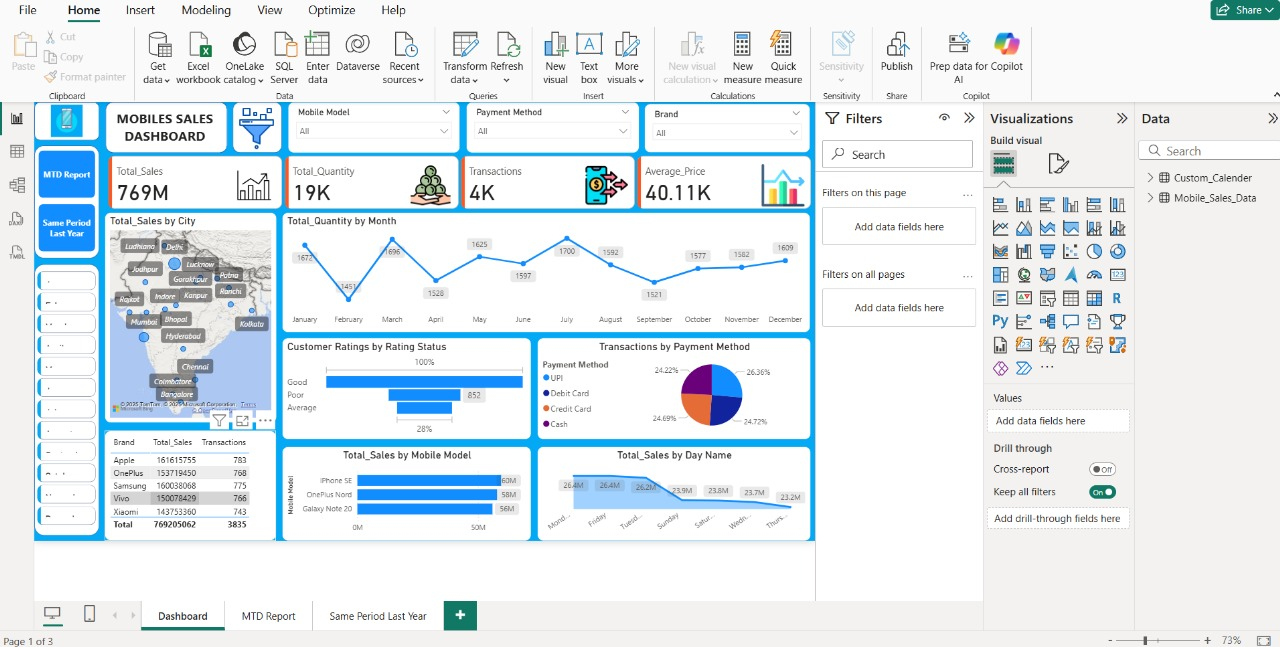

The dashboard page shown, as its layout file describes it:
{"tool":"powerbi","page":{"name":"Dashboard","canvas":[1280,720],"ordinal":0},"visuals":[{"type":"shape","box":[0,0,106.7,63.3],"z":0},{"type":"image","box":[0,0,106.7,62.2],"z":1000},{"type":"shape","box":[0,71.1,106.7,185.6],"z":2000},{"type":"shape","box":[0,265.6,106.7,445.6],"z":3000},{"type":"advancedSlicerVisual","fields":{"Values":["Custom_Calender.Date.Variation.Date Hierarchy.Month"]},"box":[0,273.3,106.7,437.8],"z":4000},{"type":"cardVisual","fields":{"Data":["Mobile_Sales_Data.Total_Sales","Mobile_Sales_Data.Total_Quantity","Mobile_Sales_Data.Transactions","Mobile_Sales_Data.Average_Price"]},"box":[116.6,83.7,1163.6,97.4],"z":5000},{"type":"slicer","fields":{"Values":["Mobile_Sales_Data.Mobile Model"]},"box":[415.8,0,282.7,83.7],"z":6000},{"type":"slicer","fields":{"Values":["Mobile_Sales_Data.Payment Method"]},"box":[708.1,0,284,83.7],"z":7000},{"type":"slicer","fields":{"Values":["Mobile_Sales_Data.Brand"]},"box":[1000.3,2.7,271.7,81],"z":8000},{"type":"shape","box":[325.2,0,81,83.7],"z":9000},{"type":"image","box":[322.5,4.1,83.7,79.6],"z":10000},{"type":"shape","box":[116.2,0,200,83.8],"z":11000},{"type":"textbox","box":[125,6.2,178.8,68.8],"z":12000},{"type":"map","fields":{"Category":["Mobile_Sales_Data.City"],"Size":["Mobile_Sales_Data.Total_Sales"]},"box":[115.3,181.1,282.7,345.8],"z":13000},{"type":"lineChart","fields":{"Category":["Custom_Calender.Date.Variation.Date Hierarchy.Month"],"Y":["Mobile_Sales_Data.Total_Quantity"]},"box":[406.6,181,866.2,197.9],"z":14000},{"type":"funnel","title":" Customer Ratings by Rating Status","fields":{"Y":["CountNonNull(Mobile_Sales_Data.Customer Ratings)"],"Category":["Mobile_Sales_Data.Rating Status"]},"box":[406.2,387,408.9,167.4],"z":15000},{"type":"pieChart","fields":{"Y":["Mobile_Sales_Data.Transactions"],"Category":["Mobile_Sales_Data.Payment Method"]},"box":[824.7,387,448.7,167.4],"z":16000},{"type":"clusteredBarChart","fields":{"Y":["Mobile_Sales_Data.Total_Sales"],"Category":["Mobile_Sales_Data.Mobile Model"]},"box":[406.2,565.4,408.9,155.1],"z":17000},{"type":"areaChart","fields":{"Y":["Mobile_Sales_Data.Total_Sales"],"Category":["Custom_Calender.Day Name"]},"box":[824.7,565.4,448.7,155.1],"z":18000},{"type":"tableEx","fields":{"Values":["Mobile_Sales_Data.Brand","Mobile_Sales_Data.Total_Sales","Mobile_Sales_Data.Transactions"]},"box":[115.3,539.3,281.3,181.1],"z":19000},{"type":"pageNavigator","box":[6.9,79.6,93.3,166],"z":20000}]}

Visuals, with their boxes on the page's 1280x720 design canvas (x1, y1, x2, y2). These are canvas units, not pixel positions in the 1280x647 screenshot, which may show the page scaled, cropped or inside an application window:
shape: l=0, t=0, r=107, b=63
image: l=0, t=0, r=107, b=62
shape: l=0, t=71, r=107, b=257
shape: l=0, t=266, r=107, b=711
advancedSlicerVisual - Custom_Calender.Date.Variation.Date Hierarchy.Month: l=0, t=273, r=107, b=711
cardVisual - Mobile_Sales_Data.Total_Sales x Mobile_Sales_Data.Total_Quantity: l=117, t=84, r=1280, b=181
slicer - Mobile_Sales_Data.Mobile Model: l=416, t=0, r=698, b=84
slicer - Mobile_Sales_Data.Payment Method: l=708, t=0, r=992, b=84
slicer - Mobile_Sales_Data.Brand: l=1000, t=3, r=1272, b=84
shape: l=325, t=0, r=406, b=84
image: l=322, t=4, r=406, b=84
shape: l=116, t=0, r=316, b=84
textbox: l=125, t=6, r=304, b=75
map - Mobile_Sales_Data.City x Mobile_Sales_Data.Total_Sales: l=115, t=181, r=398, b=527
lineChart - Custom_Calender.Date.Variation.Date Hierarchy.Month x Mobile_Sales_Data.Total_Quantity: l=407, t=181, r=1273, b=379
" Customer Ratings by Rating Status" funnel: l=406, t=387, r=815, b=554
pieChart - Mobile_Sales_Data.Transactions x Mobile_Sales_Data.Payment Method: l=825, t=387, r=1273, b=554
clusteredBarChart - Mobile_Sales_Data.Total_Sales x Mobile_Sales_Data.Mobile Model: l=406, t=565, r=815, b=720
areaChart - Mobile_Sales_Data.Total_Sales x Custom_Calender.Day Name: l=825, t=565, r=1273, b=720
tableEx - Mobile_Sales_Data.Brand x Mobile_Sales_Data.Total_Sales: l=115, t=539, r=397, b=720
pageNavigator: l=7, t=80, r=100, b=246
